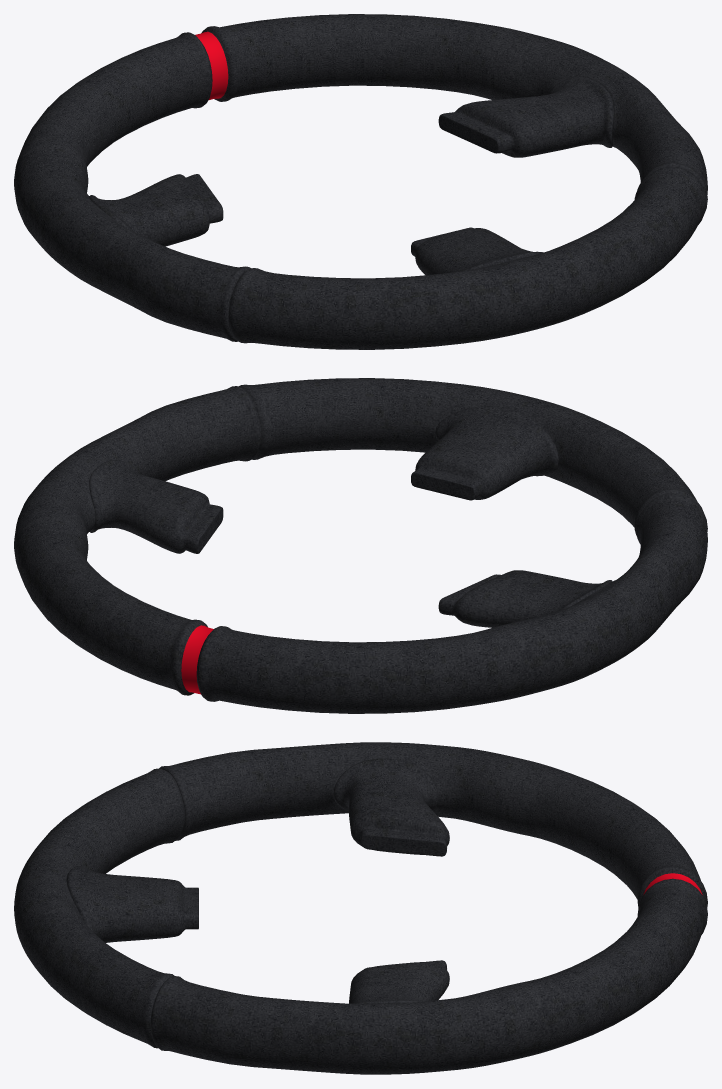
Rendered from alcantaraRim.glb.
The picture shows the model from 3 angles, top to bottom: view 1: azimuth 30°, elevation 25°; view 2: azimuth 150°, elevation 25°; view 3: azimuth 270°, elevation 25°; orthographic projection.
Parts seen in each view (by area): view 1: Circle, Circle.005; view 2: Circle, Circle.005; view 3: Circle.
Boxes of the visible parts, bbox=[...] form: Circle: bbox=[14, 14, 707, 349]; Circle.005: bbox=[195, 31, 228, 99]; Circle: bbox=[14, 378, 707, 713]; Circle.005: bbox=[181, 625, 213, 694]; Circle: bbox=[14, 742, 707, 1074].
Bounding box in the file's own units: 317 × 36.61 × 325.
Materials: 2 (1 with a texture image).
